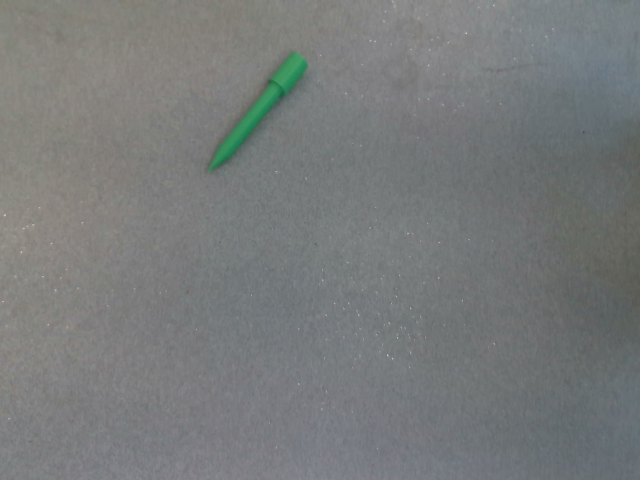Probe: (201, 44, 316, 179)
